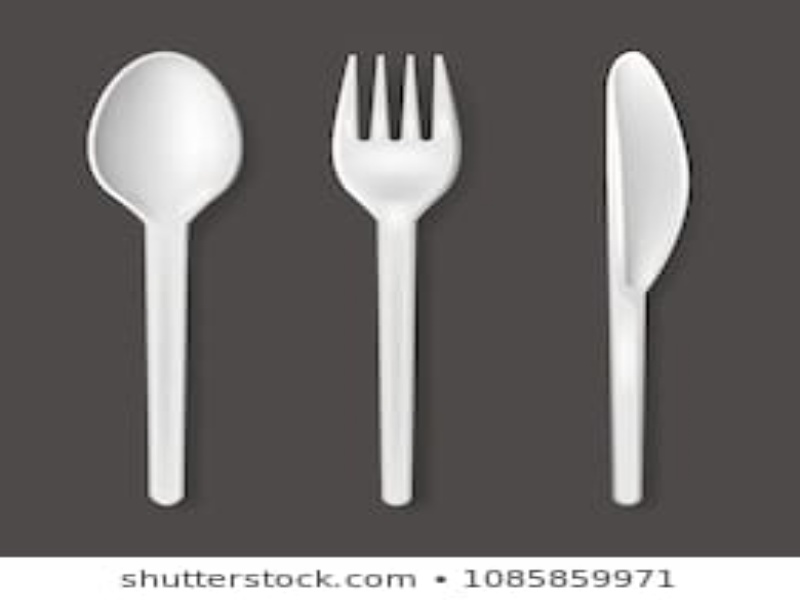plastic-silverware: (81, 43, 242, 516), (329, 47, 481, 511), (601, 51, 699, 513)
